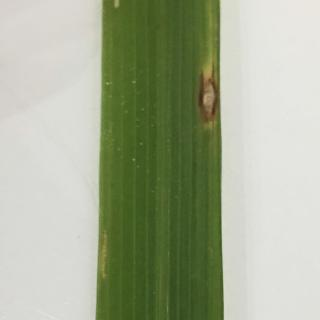Blast: (191, 41, 229, 145)
